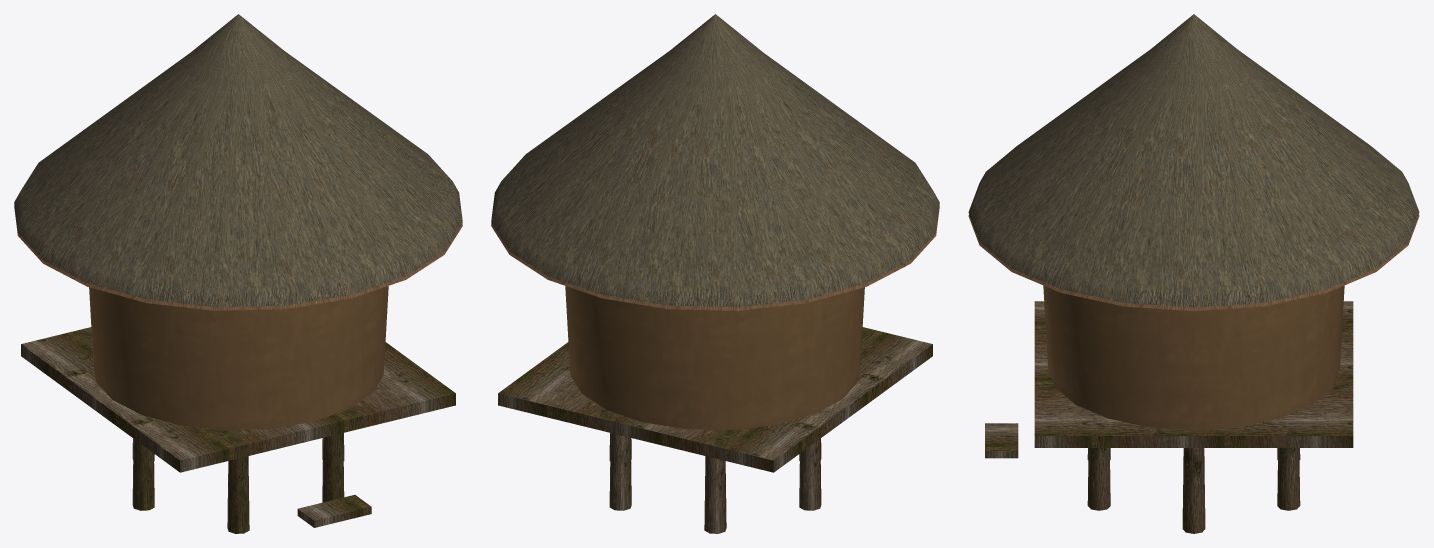
Rendered from atuwa.glb.
3 renders of one model, left to right at view 1: azimuth 30°, elevation 25°; view 2: azimuth 150°, elevation 25°; view 3: azimuth 270°, elevation 25°, orthographic.
Parts seen in each view (by area): view 1: atuwa; view 2: atuwa; view 3: atuwa.
Boxes of the visible parts, x1,y1,x2,y2 form: atuwa: [14, 14, 462, 533]; atuwa: [491, 14, 939, 533]; atuwa: [968, 14, 1419, 533].
Size of the model in its own units: 3.4 by 3.9 by 3.4.
5 materials, 5 textured.
